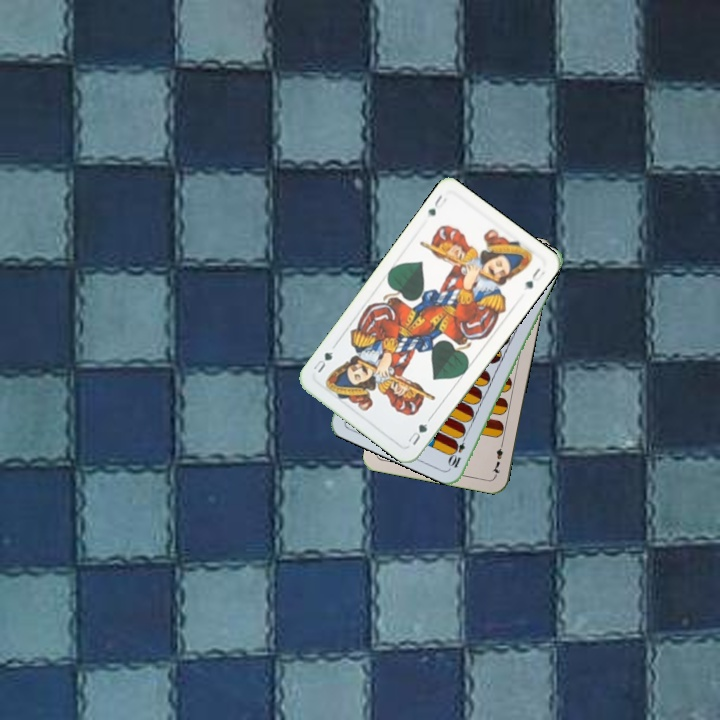E10: (445, 431, 469, 470)
E7: (488, 438, 506, 478)
GU: (423, 190, 449, 220), (404, 419, 430, 448)
